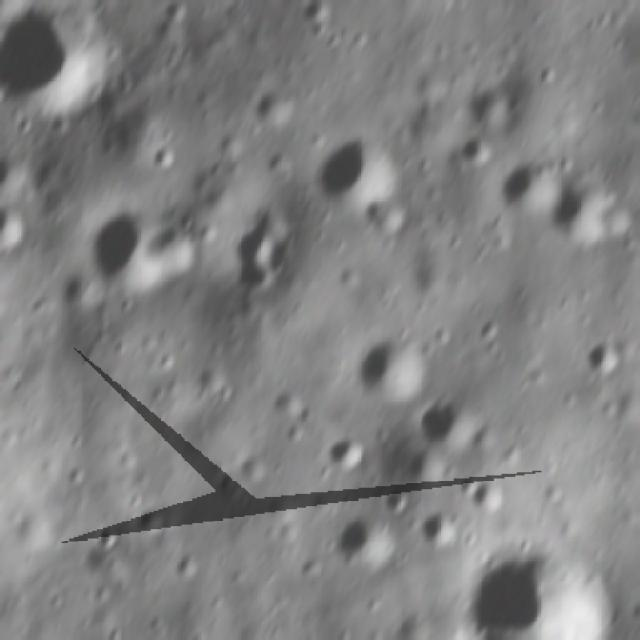crater: (456, 531, 622, 640), (0, 0, 117, 129), (80, 203, 200, 300), (310, 124, 408, 224), (346, 325, 448, 404), (230, 200, 307, 294), (552, 170, 628, 256), (492, 146, 568, 219), (330, 504, 392, 573), (417, 379, 475, 452), (316, 429, 379, 474), (254, 75, 306, 127), (412, 507, 465, 547), (402, 435, 446, 483), (586, 332, 631, 378), (451, 131, 495, 175), (469, 472, 513, 514), (380, 477, 415, 515), (304, 0, 339, 29)
